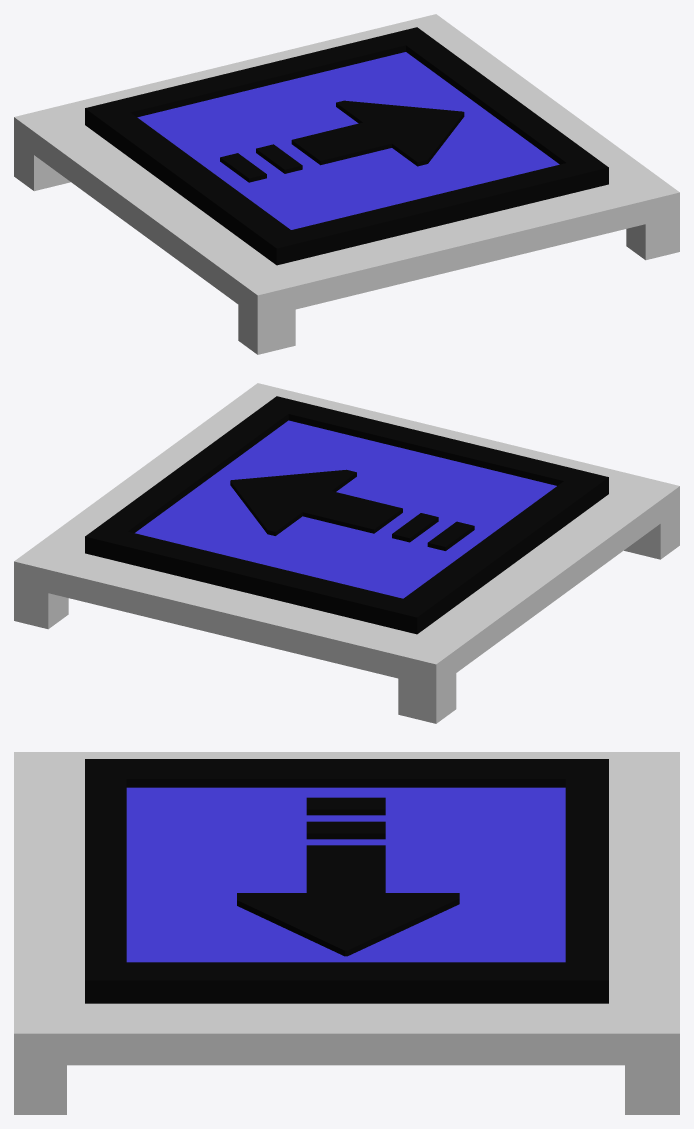
Rendered from JumpingPad.fbx.
3 renders of one model, top to bottom at view 1: azimuth 30°, elevation 25°; view 2: azimuth 150°, elevation 25°; view 3: azimuth 270°, elevation 25°, orthographic. The views are drawn at different scales.
Visible parts, largest first — view 1: Cube; view 2: Cube; view 3: Cube.
Boxes of the visible parts, x1=… form: Cube: x1=14, y1=14, x2=679, y2=354; Cube: x1=14, y1=383, x2=679, y2=723; Cube: x1=14, y1=752, x2=679, y2=1114.
Bounding box in the file's own units: 100 × 17.29 × 100.
